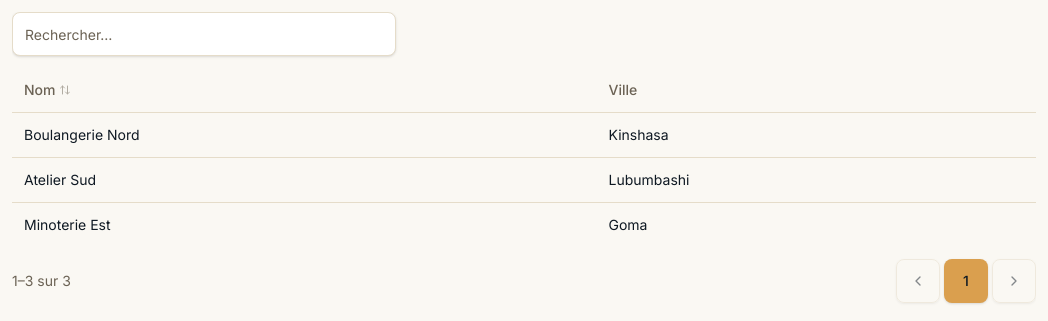
Test: PremiumTable — DOM › filtre via la barre de recherche
This screenshot has width=1048, height=321.
Type "Goma" into the search field at (204, 34), box top-left (12, 12), bottom-right (396, 56)
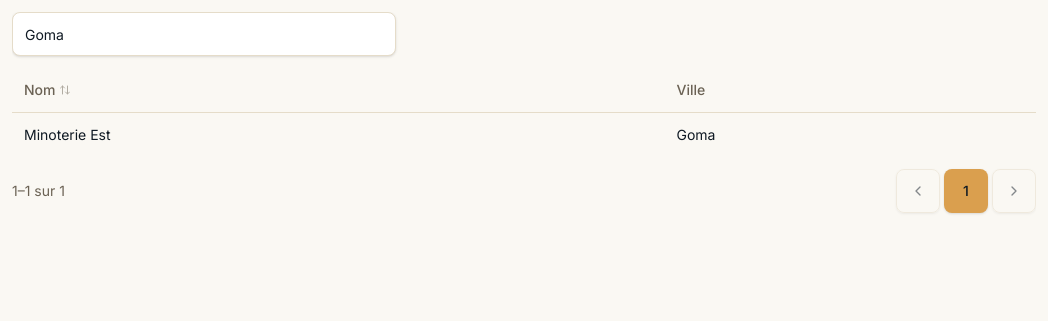
Expected: the text "Minoterie Est" is shown, top-left (12, 112), bottom-right (664, 157)
Expected: the text "Boulangerie Nord" is gone
Expected: the text "Atelier Sud" is gone
